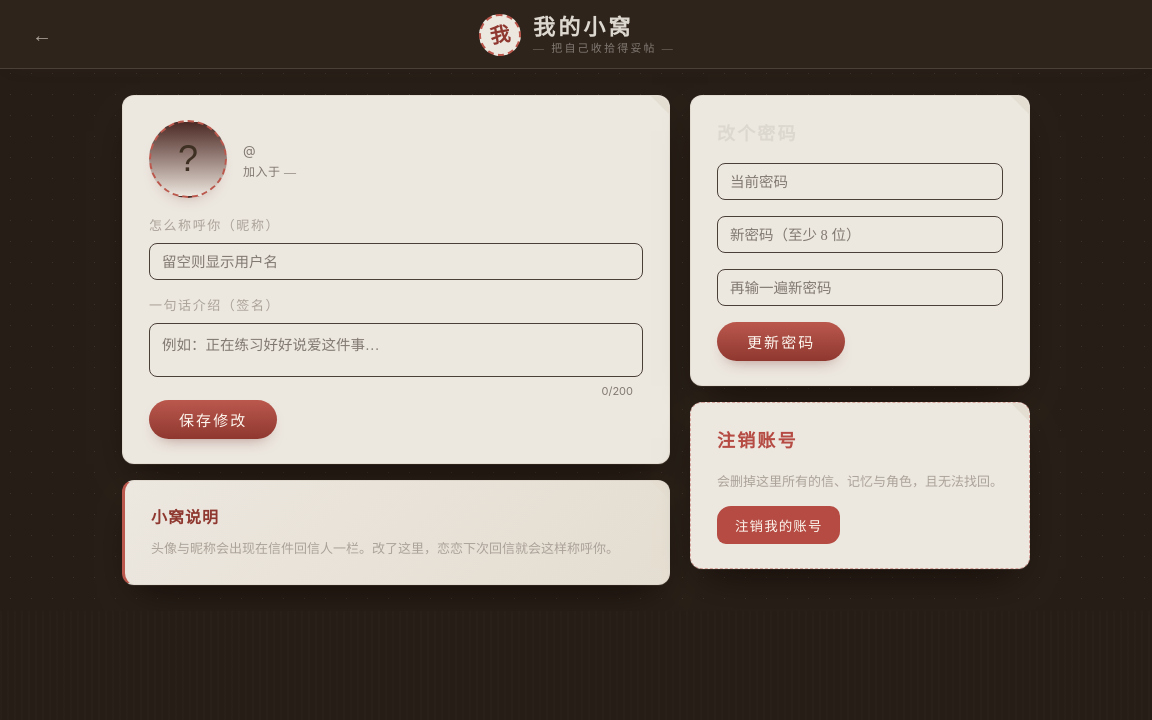
Profile.vue › 保存请求异常：把后端 message 变成可见错误并让 saving 收敛
Click the button with class "save-btn" showing "保存修改": click(213, 420) [149,400,277,439]
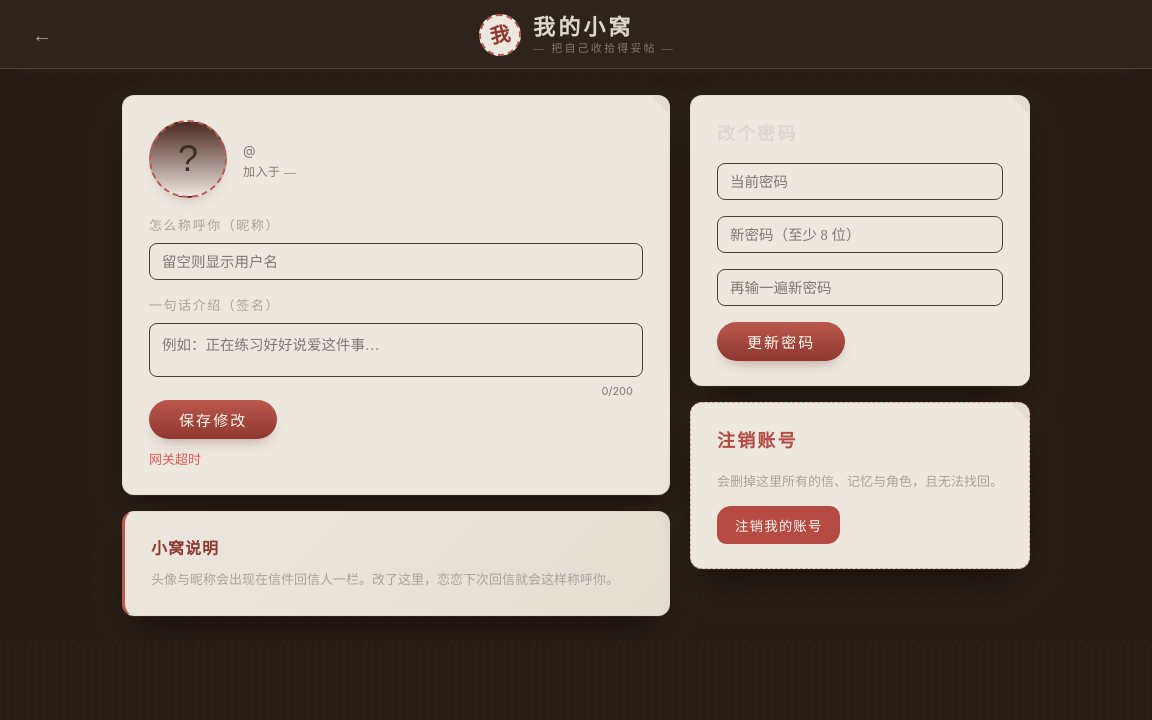
Expected: the text with class "form-msg" reads "网关超时", [149,451,201,467]
